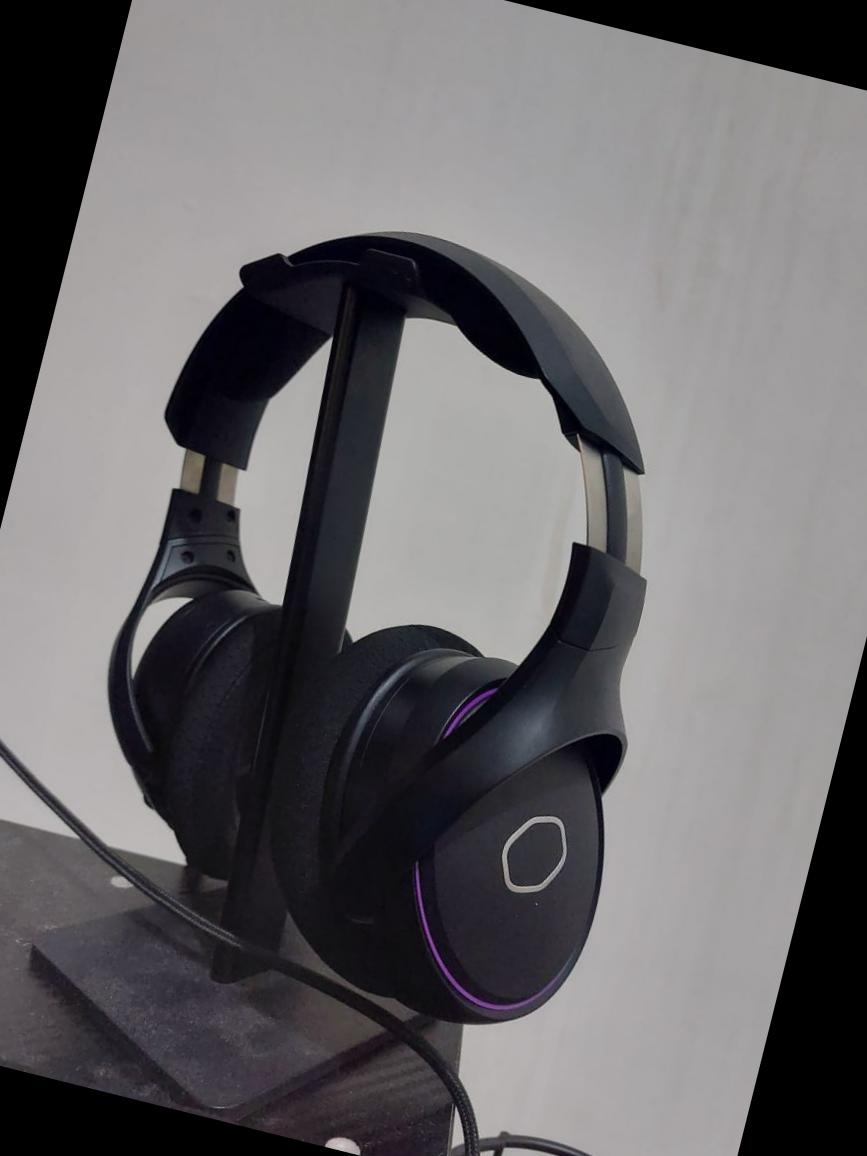Headset: (36, 178, 758, 1058)
